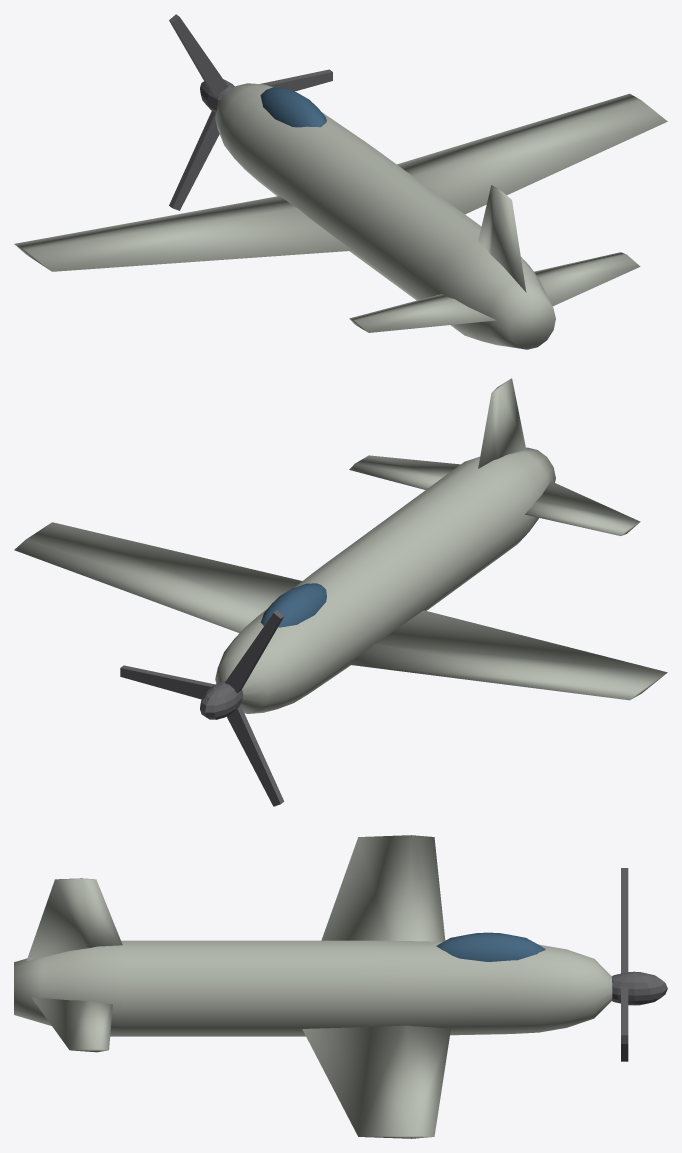
3 views of the same model, one above another, from view 1: azimuth 30°, elevation 25°; view 2: azimuth 150°, elevation 25°; view 3: azimuth 270°, elevation 25° (orthographic).
Parts seen in each view (by area): view 1: Body, Detail, Canopy; view 2: Body, Detail, Canopy; view 3: Body, Detail, Canopy.
Boxes of the visible parts, left/top/right/bottom form: Body: left=14, top=83, right=667, bottom=349; Detail: left=169, top=14, right=332, bottom=210; Canopy: left=260, top=87, right=326, bottom=127; Body: left=14, top=378, right=667, bottom=713; Detail: left=120, top=610, right=284, bottom=806; Canopy: left=260, top=583, right=326, bottom=627; Body: left=14, top=835, right=612, bottom=1138; Detail: left=611, top=868, right=667, bottom=1061; Canopy: left=436, top=932, right=545, bottom=961.
Bounding box in the file's own units: 1050 × 337 × 968.
